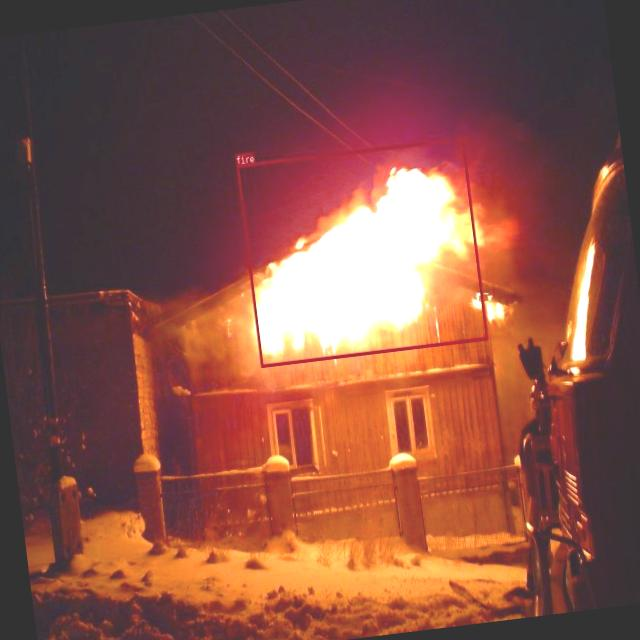fire: (236, 136, 487, 367)
